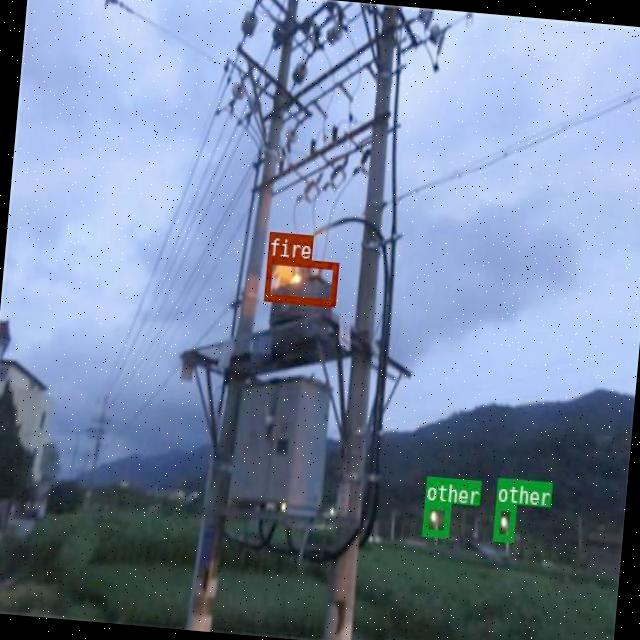fire: (262, 256, 338, 306)
